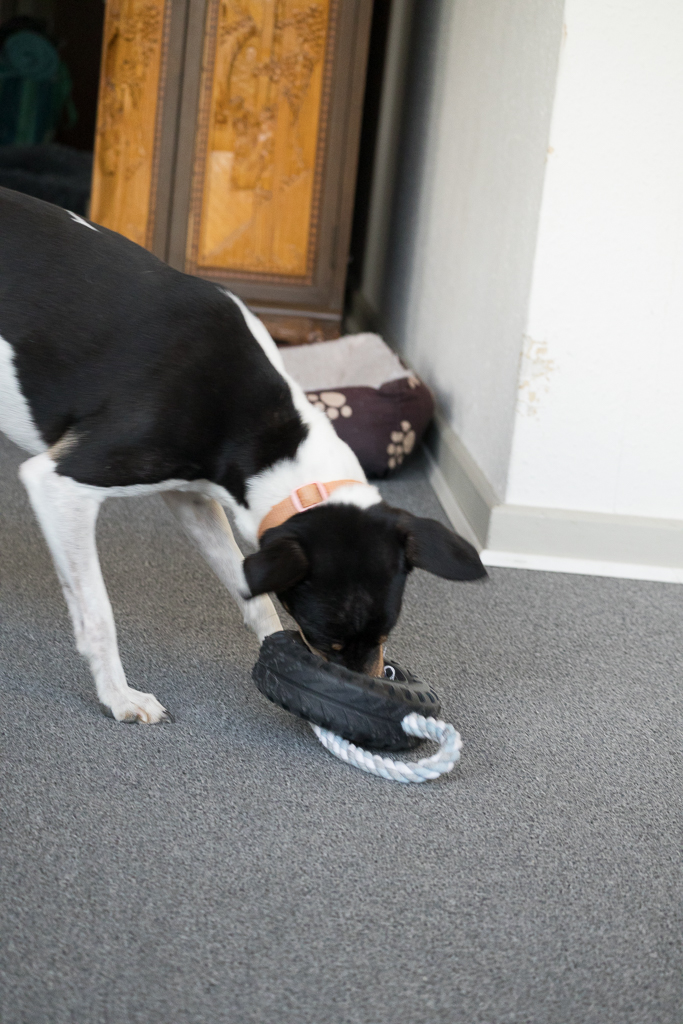Dog: (0, 180, 501, 737)
